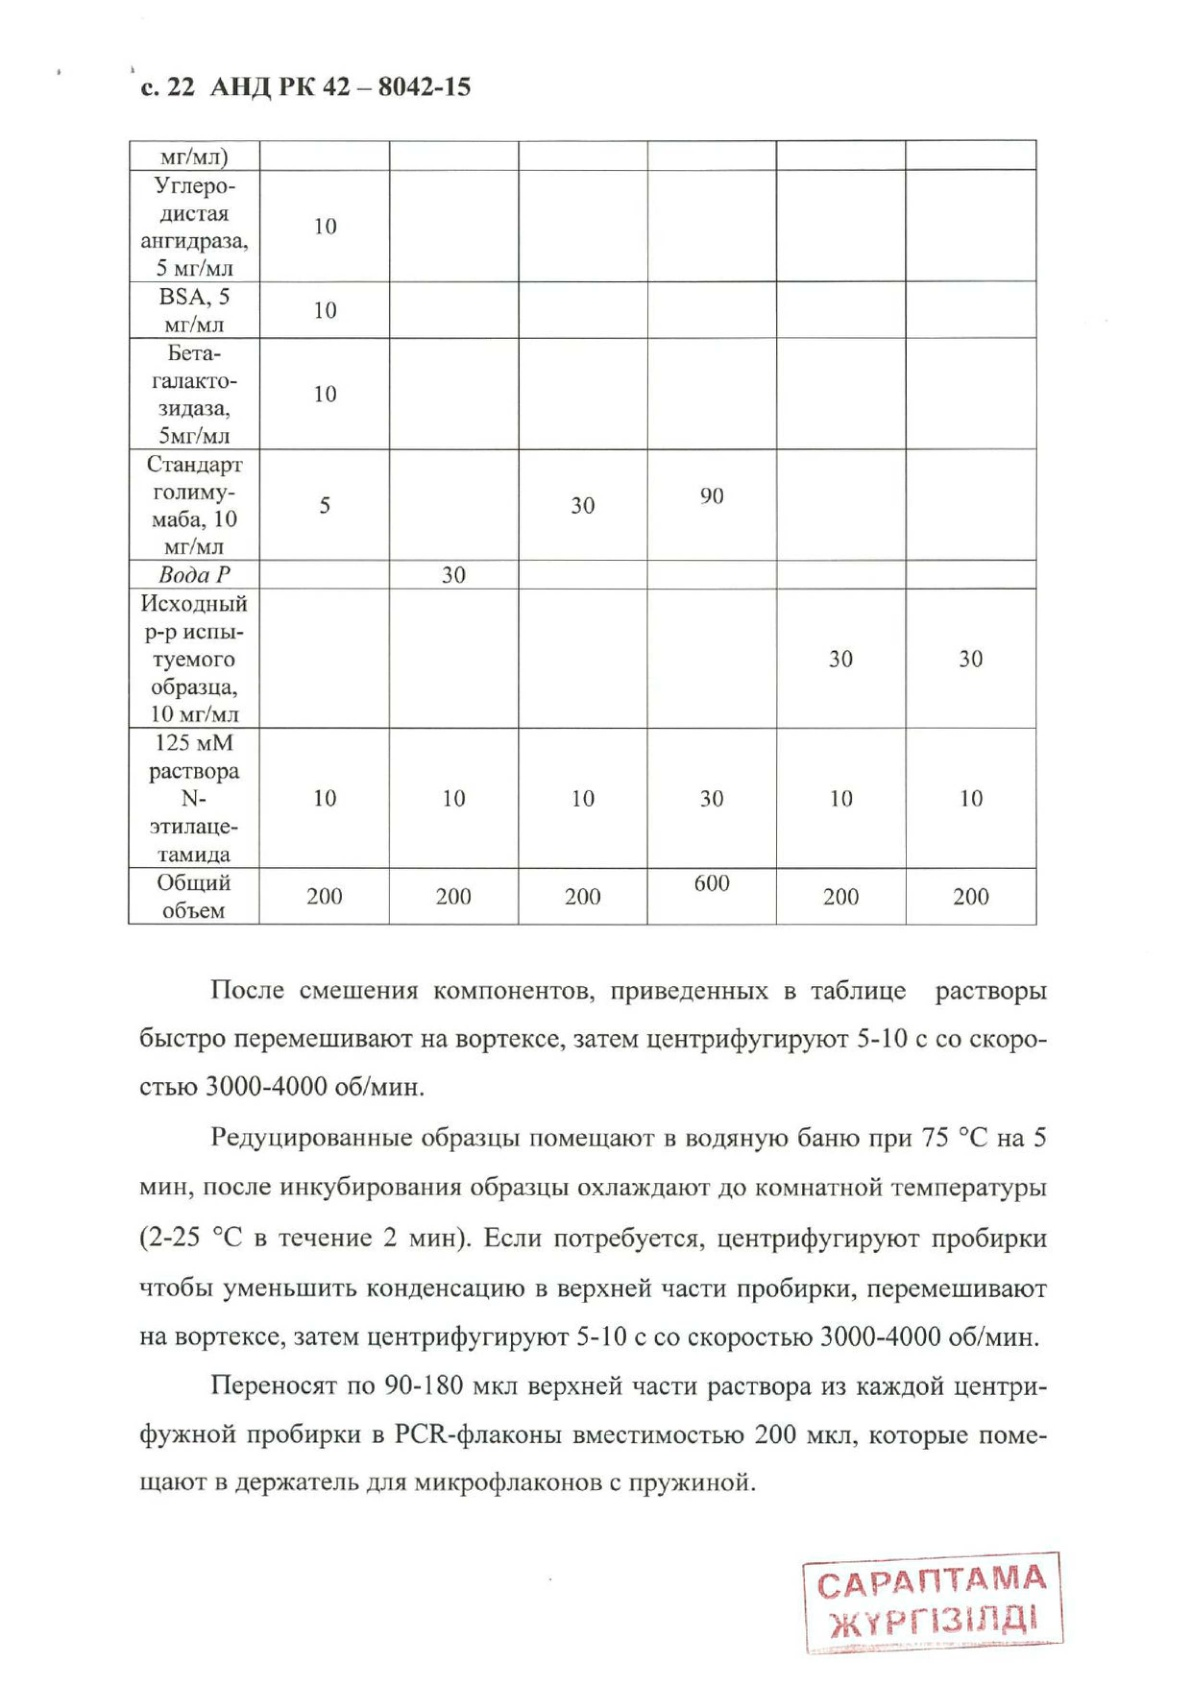full_lined: (126, 138, 1038, 926)
